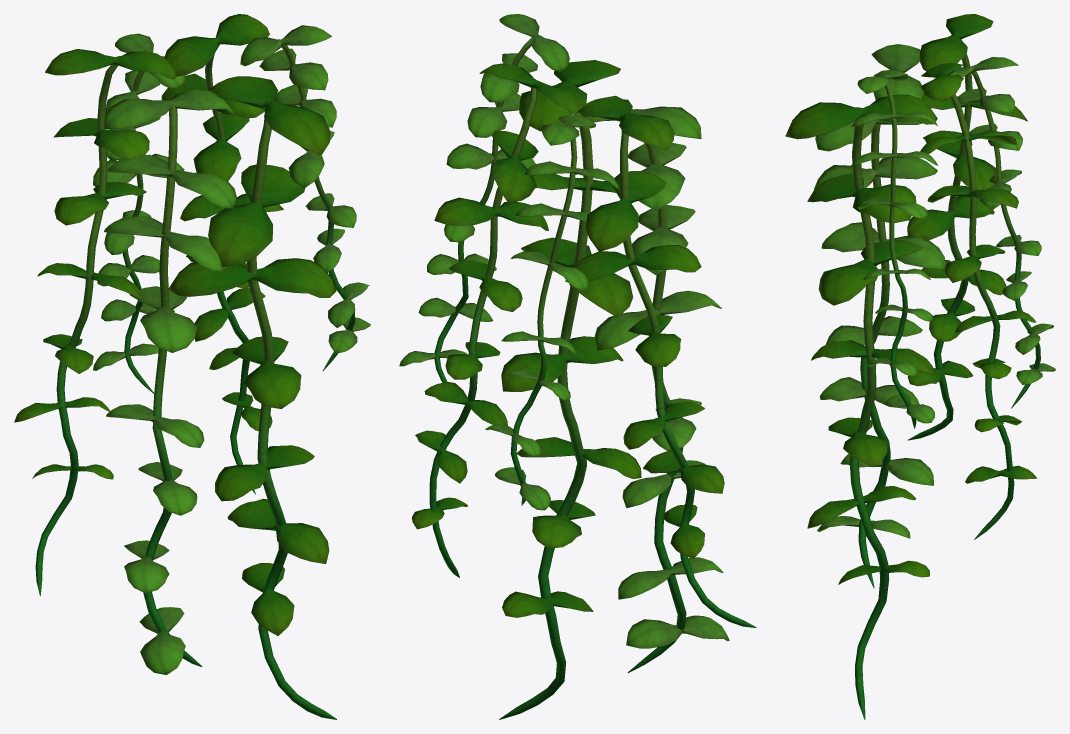
Rendered from Cartoon Seaweed_10_8.FBX.
3 views of the same model, side by side, from view 1: azimuth 30°, elevation 25°; view 2: azimuth 150°, elevation 25°; view 3: azimuth 270°, elevation 25° (orthographic). The views are drawn at different scales.
Visible parts, largest first — view 1: Cartoon Seaweed 10.8; view 2: Cartoon Seaweed 10.8; view 3: Cartoon Seaweed 10.8.
Part boxes in pixels (x1,y1,x2,y2): Cartoon Seaweed 10.8: (14, 14, 370, 719); Cartoon Seaweed 10.8: (399, 14, 756, 719); Cartoon Seaweed 10.8: (785, 14, 1055, 719).
Bounding box in the file's own units: 13.98 × 27.43 × 10.64.
